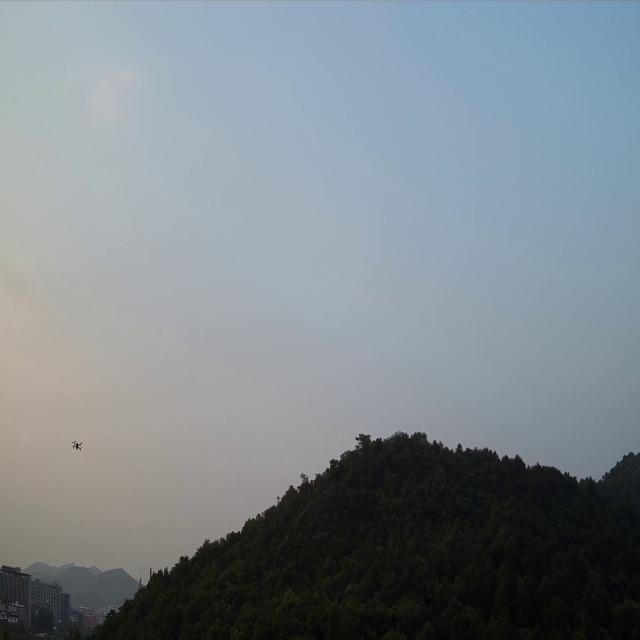UAV: (71, 439, 83, 452)
